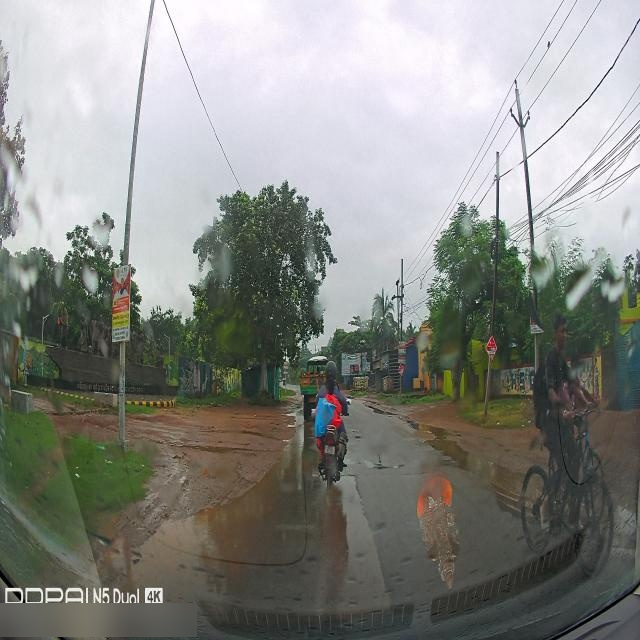pothole: (131, 498, 274, 584), (415, 413, 478, 474), (160, 437, 277, 465), (484, 450, 526, 495), (368, 396, 413, 425), (283, 399, 305, 437)
